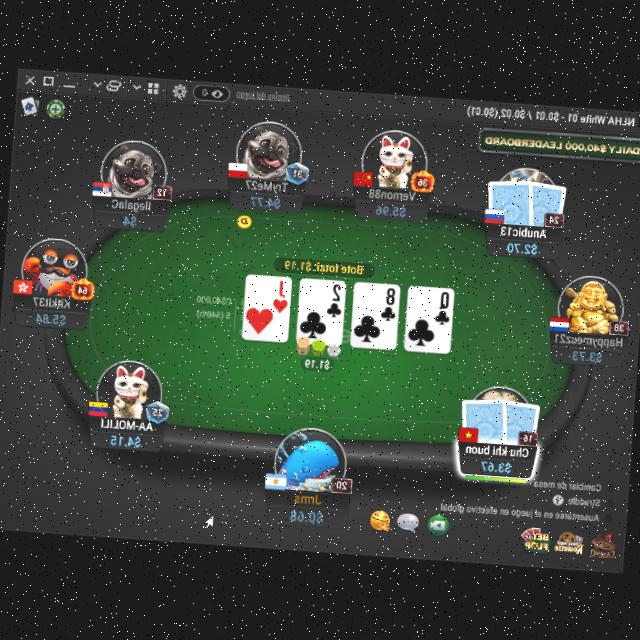2c: (324, 278, 344, 318)
8c: (378, 283, 399, 322)
Jh: (271, 276, 290, 312)
Qc: (432, 288, 452, 324)
bet_text: (302, 353, 332, 369)
card_back: (482, 172, 536, 226), (456, 391, 511, 444), (522, 176, 568, 227), (497, 394, 542, 444)
dealer: (234, 210, 253, 227)
pot_text: (282, 254, 363, 274)
stack_text: (287, 504, 326, 524), (478, 454, 512, 472), (506, 236, 540, 254), (32, 308, 68, 324), (570, 344, 604, 360), (373, 200, 407, 216), (248, 190, 282, 206), (109, 428, 142, 444), (121, 208, 139, 224)
